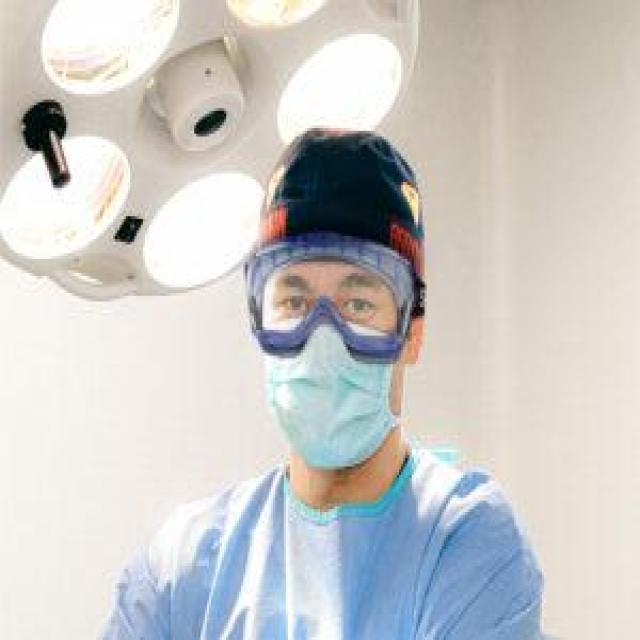Mask: (267, 319, 403, 470)
